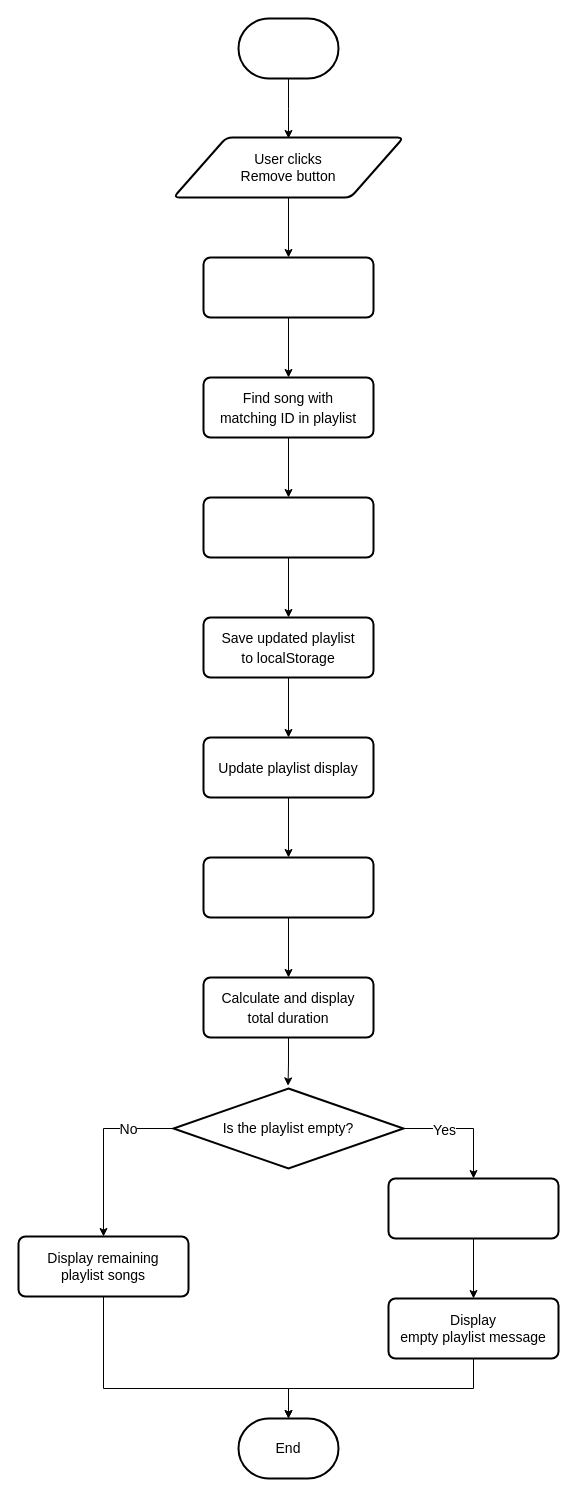
Some shapes in this 576 by 1496 pixel diagram are drawn without their labels. Each missing label, with the centre of its shape:
Display Clear Playlist button: point 473,1208
Get selected song ID: point 288,287
Remove song from playlist array: point 288,527
Start: point 288,48
Update song count: point 288,887
